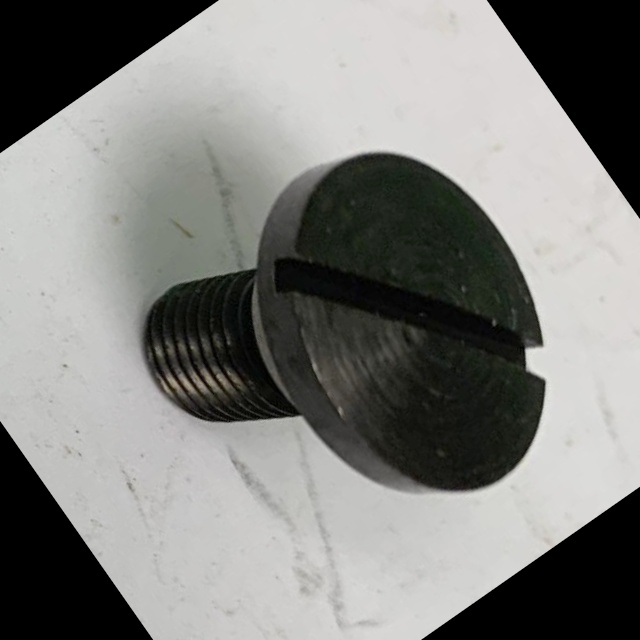duz: (195, 104, 620, 552)
